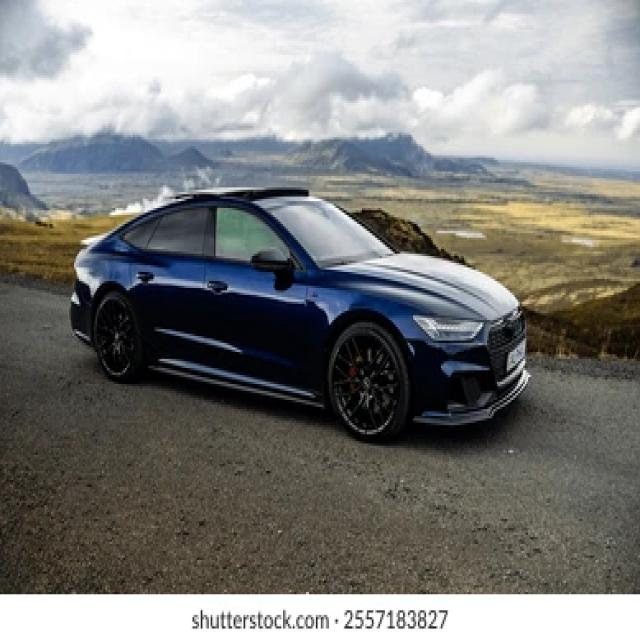audi: (507, 314, 525, 342)
